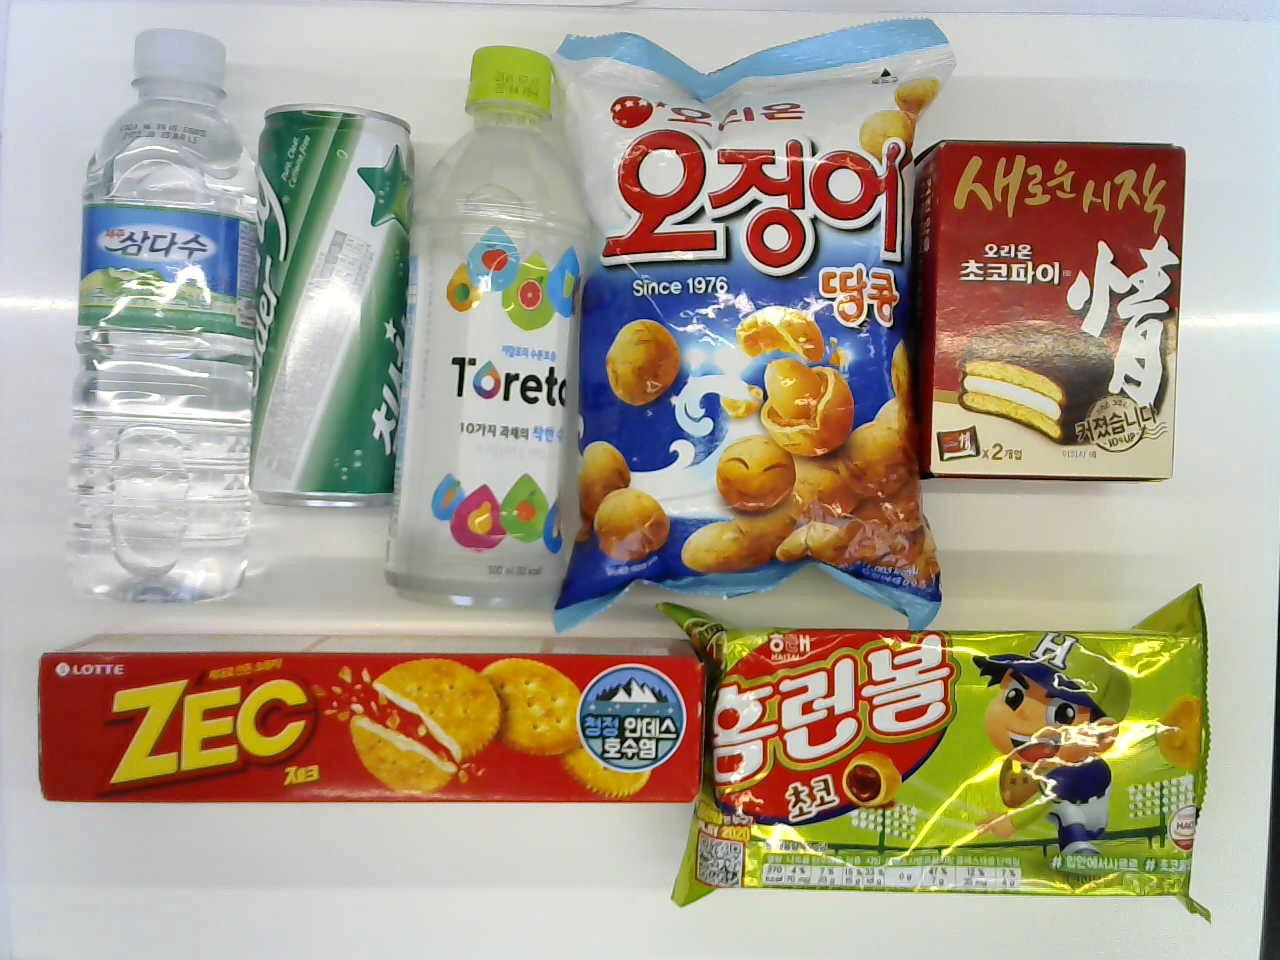chocopie: (914, 122, 1192, 506)
cidar: (240, 94, 401, 528)
homerunball: (692, 595, 1212, 912)
samdasu: (78, 20, 260, 609)
squid_peanut: (565, 31, 933, 620)
toreta: (402, 51, 577, 605)
zec: (21, 626, 706, 814)
